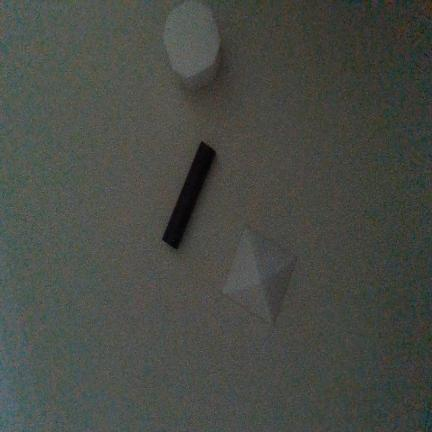Cilindro: (162, 140, 216, 250)
Piramide: (223, 227, 296, 323)
Prisma_hexagonal: (163, 0, 220, 89)
